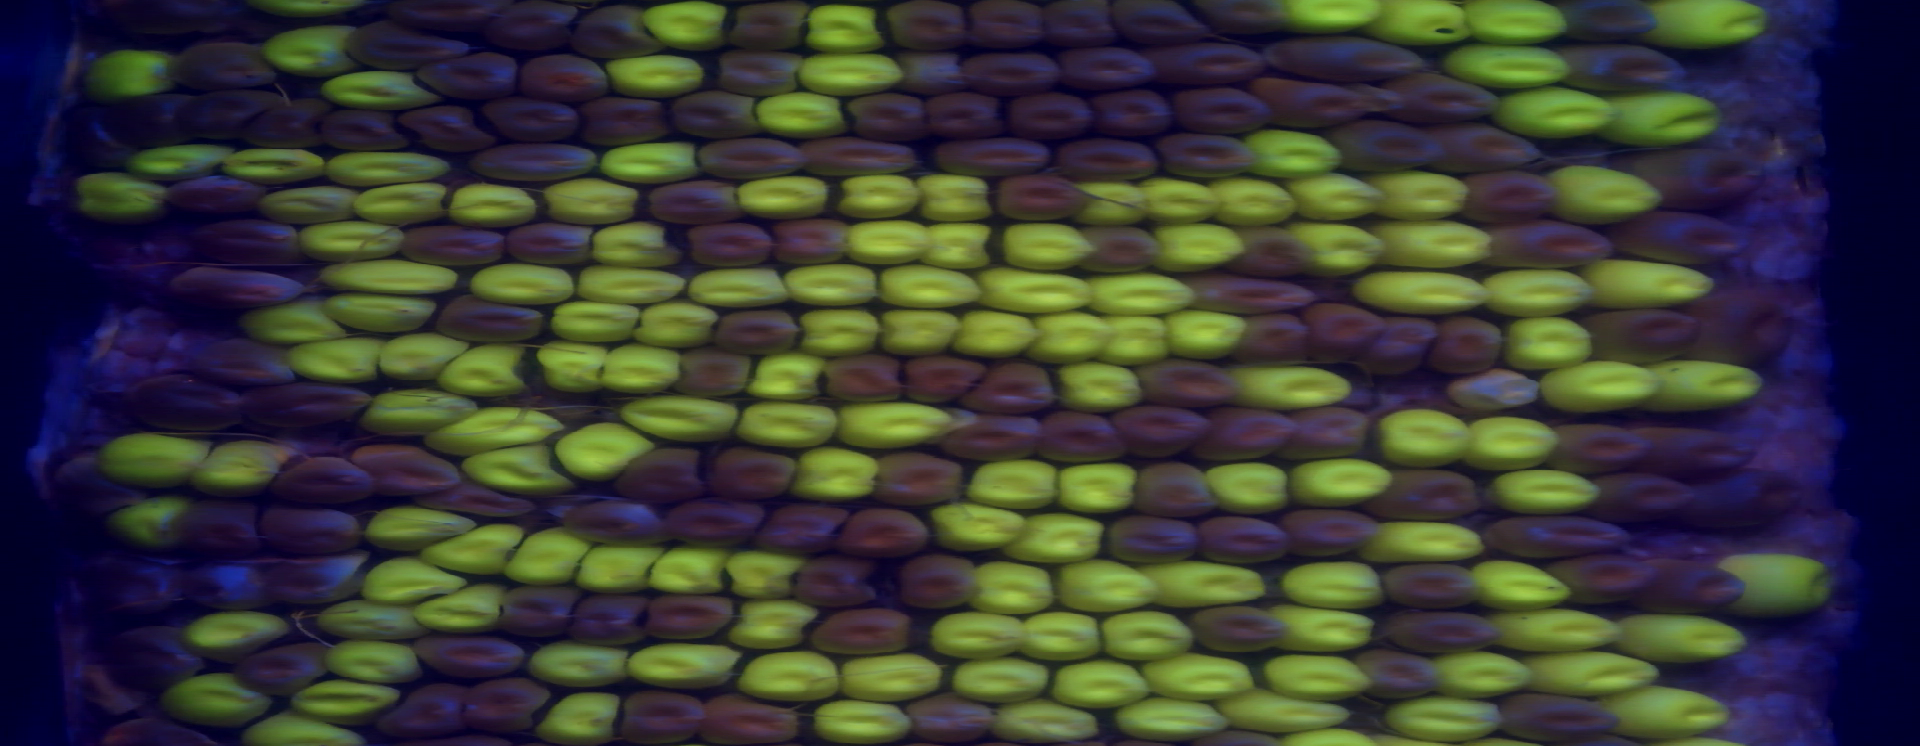fluorescent: (1607, 604, 1749, 665), (1714, 551, 1836, 619), (1581, 252, 1720, 310), (1598, 85, 1718, 149), (1347, 265, 1498, 316), (1596, 682, 1734, 737), (1545, 165, 1667, 228), (1644, 354, 1766, 416), (427, 401, 560, 457), (1140, 552, 1267, 610), (96, 423, 212, 485), (1464, 552, 1573, 617), (1490, 82, 1618, 136), (1227, 363, 1353, 415), (1447, 40, 1573, 92), (1365, 516, 1491, 567), (975, 267, 1100, 318), (1512, 653, 1663, 695), (624, 388, 741, 442), (1489, 469, 1609, 521), (1384, 693, 1509, 742), (179, 608, 291, 661), (1649, 1, 1779, 48), (411, 577, 512, 637), (1056, 552, 1160, 610), (1260, 652, 1375, 703), (1140, 653, 1256, 703), (1480, 267, 1599, 316), (320, 65, 444, 111), (463, 257, 578, 307), (831, 403, 949, 452), (631, 1, 737, 55), (320, 293, 440, 341), (1082, 269, 1199, 318), (1487, 610, 1627, 650), (432, 347, 540, 399), (1280, 561, 1390, 612), (159, 673, 272, 723), (1096, 611, 1196, 668), (1371, 218, 1493, 265), (553, 415, 645, 477), (421, 527, 528, 579), (1419, 650, 1545, 695), (458, 446, 574, 494), (1509, 312, 1596, 376), (624, 639, 737, 688), (235, 707, 375, 746), (1550, 367, 1662, 416), (741, 648, 835, 706), (1153, 307, 1248, 365), (1238, 127, 1343, 179), (1264, 601, 1380, 648), (320, 260, 467, 296), (1117, 697, 1236, 742), (1217, 691, 1353, 730), (1292, 220, 1386, 277), (527, 639, 632, 690), (1283, 168, 1384, 220), (1373, 405, 1464, 463), (1460, 418, 1558, 472), (1057, 358, 1150, 414), (730, 590, 823, 647), (1460, 1, 1572, 48), (829, 657, 948, 701), (283, 338, 392, 386), (787, 446, 879, 502), (1030, 306, 1109, 371), (811, 696, 913, 746), (1370, 167, 1471, 218), (315, 635, 429, 680), (793, 2, 889, 56), (786, 55, 913, 96), (309, 599, 436, 639), (966, 557, 1056, 615), (1018, 604, 1103, 664), (1206, 171, 1300, 225), (1015, 510, 1103, 567), (1049, 461, 1141, 516), (991, 699, 1102, 745), (81, 53, 181, 103), (373, 330, 474, 380), (924, 503, 1022, 555), (1146, 223, 1244, 274), (100, 496, 196, 549), (964, 458, 1059, 511), (872, 265, 984, 309), (1374, 1, 1477, 49), (571, 265, 692, 305), (682, 268, 790, 314), (1002, 220, 1098, 271), (238, 303, 350, 345), (879, 304, 959, 364), (955, 307, 1035, 367), (779, 262, 880, 309), (736, 401, 838, 447), (951, 655, 1053, 702), (596, 142, 707, 185), (251, 183, 367, 223), (73, 174, 171, 222), (752, 92, 850, 140), (544, 176, 639, 225), (840, 220, 940, 267), (288, 676, 407, 715), (725, 546, 807, 603), (528, 692, 613, 746), (1200, 462, 1287, 514), (934, 612, 1030, 660), (1051, 660, 1149, 707), (323, 148, 454, 183), (366, 507, 474, 549), (602, 58, 709, 99), (358, 555, 464, 597), (653, 546, 738, 598), (358, 392, 467, 432), (293, 220, 411, 257), (219, 145, 329, 184), (732, 176, 835, 218), (1284, 462, 1390, 502), (550, 299, 643, 344), (796, 309, 885, 355), (130, 140, 233, 180), (835, 174, 921, 222), (746, 352, 827, 402), (1130, 175, 1215, 223), (588, 225, 684, 267), (913, 171, 996, 220), (602, 341, 684, 390), (580, 541, 656, 594), (534, 342, 613, 392), (364, 181, 453, 225), (448, 183, 540, 225), (511, 530, 589, 581), (637, 303, 718, 349), (922, 222, 1000, 269), (1074, 176, 1145, 227), (269, 29, 360, 69), (1108, 311, 1172, 366), (1287, 1, 1387, 31)
nonfluorescent: (1621, 148, 1769, 209), (1262, 28, 1427, 82), (1682, 293, 1795, 367), (125, 372, 245, 437), (1478, 514, 1636, 562), (1681, 470, 1804, 532), (1484, 219, 1618, 274), (1613, 211, 1751, 263), (1547, 419, 1658, 484), (1496, 690, 1618, 746), (1578, 309, 1704, 363), (239, 382, 373, 432), (1434, 119, 1550, 176), (1185, 268, 1318, 318), (1152, 34, 1269, 91), (1382, 69, 1501, 124), (1621, 428, 1757, 475), (168, 42, 288, 96), (167, 265, 298, 314), (516, 48, 617, 110), (1637, 560, 1747, 617), (811, 601, 915, 661), (103, 626, 204, 687), (1548, 40, 1685, 86), (1247, 77, 1370, 127), (1331, 121, 1444, 176), (351, 445, 467, 499), (1134, 358, 1242, 415), (867, 453, 971, 512), (433, 293, 549, 345), (410, 635, 534, 684), (1298, 301, 1385, 370), (1589, 472, 1698, 526), (470, 140, 602, 184), (936, 412, 1046, 464), (372, 681, 475, 737), (422, 473, 538, 523), (1048, 131, 1158, 183), (347, 21, 471, 66), (890, 552, 984, 612), (271, 452, 380, 503), (958, 360, 1057, 416), (1460, 169, 1562, 223), (1150, 129, 1258, 180), (1278, 507, 1379, 562), (480, 1, 578, 58), (615, 443, 707, 503), (192, 334, 299, 386), (1376, 475, 1485, 526), (1387, 606, 1499, 655), (1232, 224, 1318, 288), (189, 217, 302, 265), (578, 93, 672, 151), (992, 174, 1102, 223), (1204, 403, 1296, 461), (454, 676, 552, 730), (1109, 1, 1226, 47), (640, 587, 736, 642), (1128, 461, 1217, 519), (393, 223, 516, 266), (480, 96, 587, 145), (1098, 516, 1205, 565), (616, 690, 710, 745), (1547, 556, 1660, 601), (696, 695, 801, 744), (1108, 410, 1210, 461), (62, 104, 140, 170), (803, 136, 918, 180), (673, 87, 769, 140), (160, 175, 274, 219), (707, 446, 800, 500), (1430, 315, 1507, 380), (1283, 402, 1370, 459), (787, 555, 882, 608), (564, 6, 671, 53), (1040, 410, 1129, 465), (320, 107, 415, 158), (681, 217, 776, 268), (1003, 86, 1091, 141), (1196, 514, 1291, 566), (258, 557, 365, 603), (257, 508, 366, 552), (1164, 89, 1273, 134), (773, 214, 860, 269), (906, 695, 1000, 745), (846, 86, 928, 143), (493, 223, 598, 268), (932, 135, 1059, 171), (184, 497, 263, 556), (418, 51, 523, 96), (179, 93, 276, 141), (104, 94, 190, 148), (92, 1, 222, 37), (1379, 563, 1489, 605), (1362, 314, 1435, 376), (662, 497, 763, 543), (842, 510, 933, 560), (971, 1, 1057, 54), (699, 138, 811, 179), (1054, 45, 1156, 89), (1081, 225, 1162, 281), (823, 350, 904, 405), (708, 48, 803, 94), (1354, 649, 1442, 699), (558, 495, 661, 538), (231, 650, 337, 692), (1182, 608, 1281, 652), (893, 43, 973, 97), (732, 1, 817, 53), (568, 589, 653, 641), (649, 179, 744, 224), (891, 1, 975, 53), (1086, 89, 1173, 138), (1236, 310, 1314, 364), (898, 355, 980, 407), (493, 589, 584, 636), (1558, 1, 1660, 42), (407, 102, 491, 151), (962, 51, 1068, 91), (396, 1, 501, 40), (246, 100, 328, 151), (714, 314, 802, 360), (100, 710, 216, 746), (758, 502, 841, 551), (105, 563, 189, 611), (1191, 1, 1296, 39), (184, 563, 274, 606), (1043, 1, 1122, 48), (677, 350, 754, 396), (934, 91, 1000, 136)
